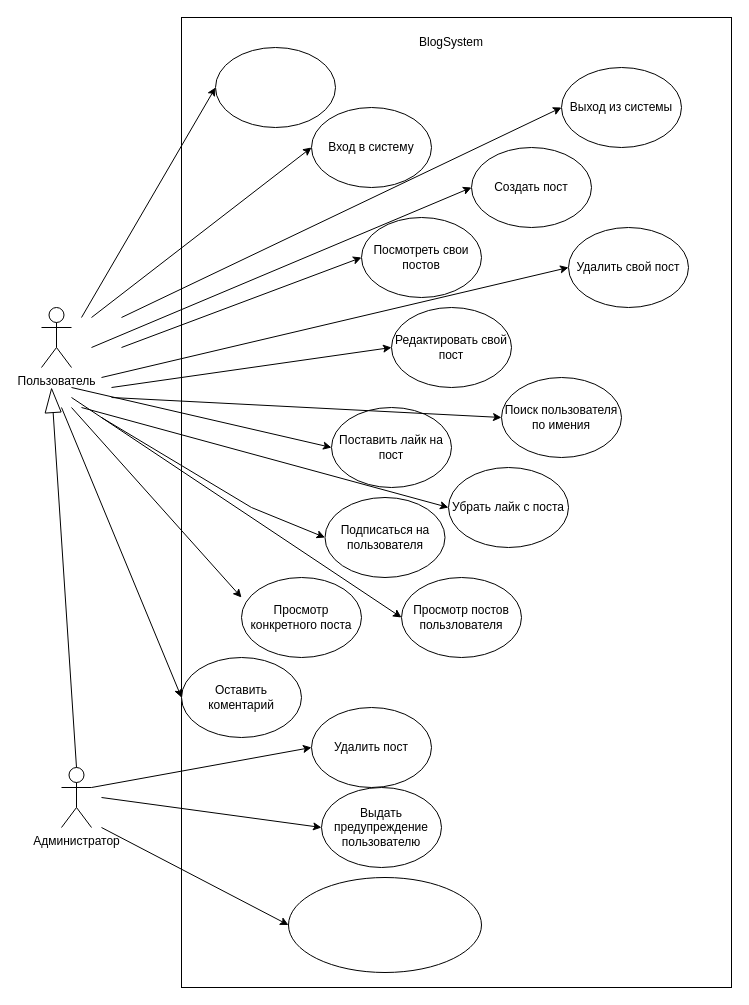
Image size: 749x1005. Some labels were removed from this diagram. Each missing label, with the box of its shape:
Заблокировать аккаунт пользователя: (288, 876, 482, 972)
Регистрация в системе: (214, 46, 336, 128)
